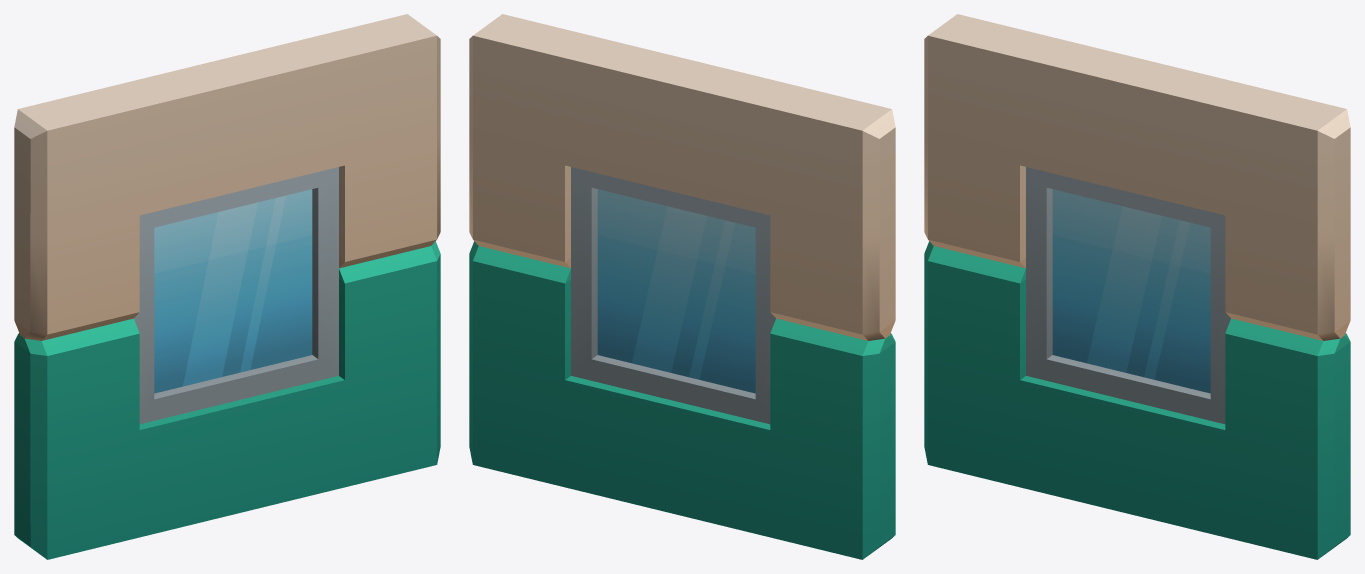
File: wall_window_closed.glb
3 views of the same model, side by side, from view 1: azimuth 30°, elevation 25°; view 2: azimuth 150°, elevation 25°; view 3: azimuth 330°, elevation 25° (orthographic).
Parts seen in each view (by area): view 1: wall_window_closed; view 2: wall_window_closed; view 3: wall_window_closed.
Part boxes in pixels (<box>): wall_window_closed: <box>14,14,440,559</box>; wall_window_closed: <box>469,14,895,559</box>; wall_window_closed: <box>924,14,1350,559</box>.
Bounding box in the file's own units: 4 × 4 × 0.5.
Materials: 1 (1 with a texture image).
